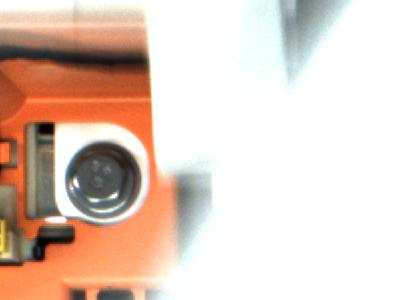nut_b: (60, 137, 147, 214)
